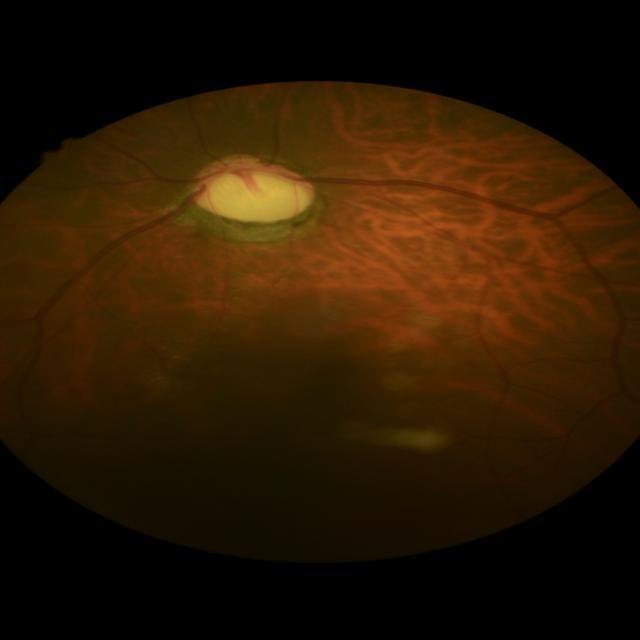cup: (205, 165, 308, 219)
disk: (190, 157, 316, 221)
